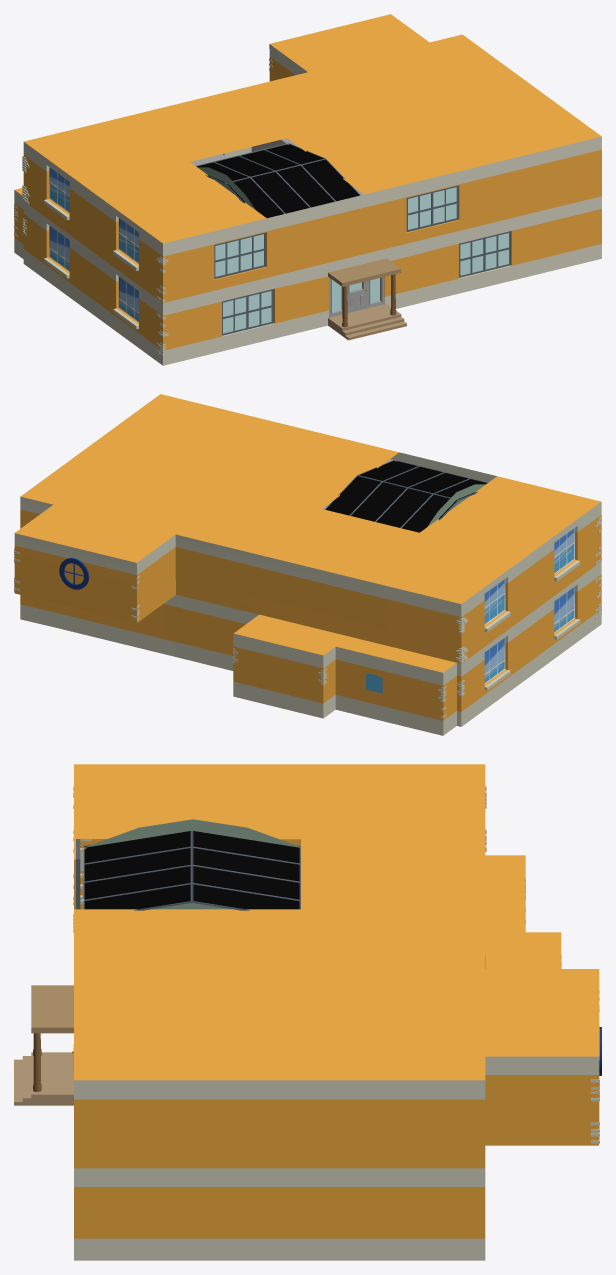
Rendered from House 05.fbx.
The picture shows the model from 3 angles, top to bottom: view 1: azimuth 30°, elevation 25°; view 2: azimuth 150°, elevation 25°; view 3: azimuth 270°, elevation 25°; orthographic projection. The views are drawn at different scales.
Visible parts, largest first — view 1: House.05, House.Door; view 2: House.05; view 3: House.05.
Part boxes in pixels (box(x1,y1,x2,y2)): House.05: box(14, 14, 601, 365); House.Door: box(347, 281, 367, 312); House.05: box(14, 394, 601, 735); House.05: box(14, 764, 601, 1260).
Bounding box in the file's own units: 3046 × 895 × 2380.
